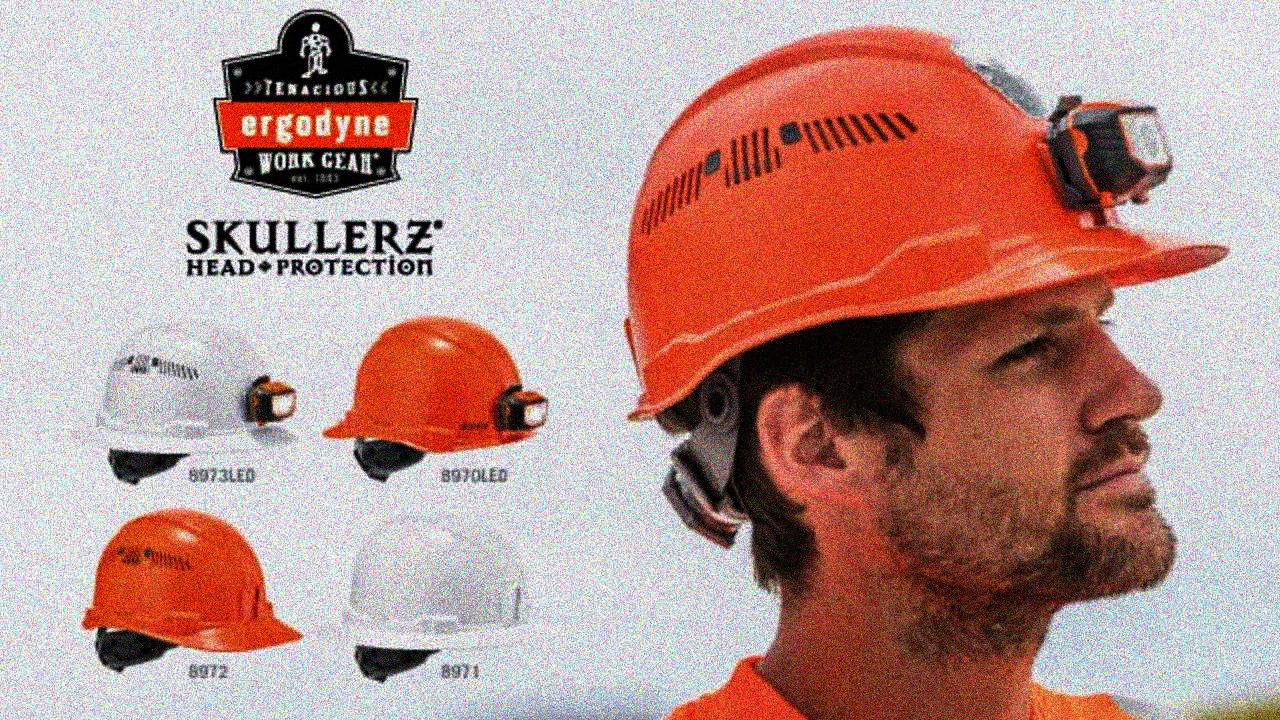helmet: (613, 16, 1235, 598)
